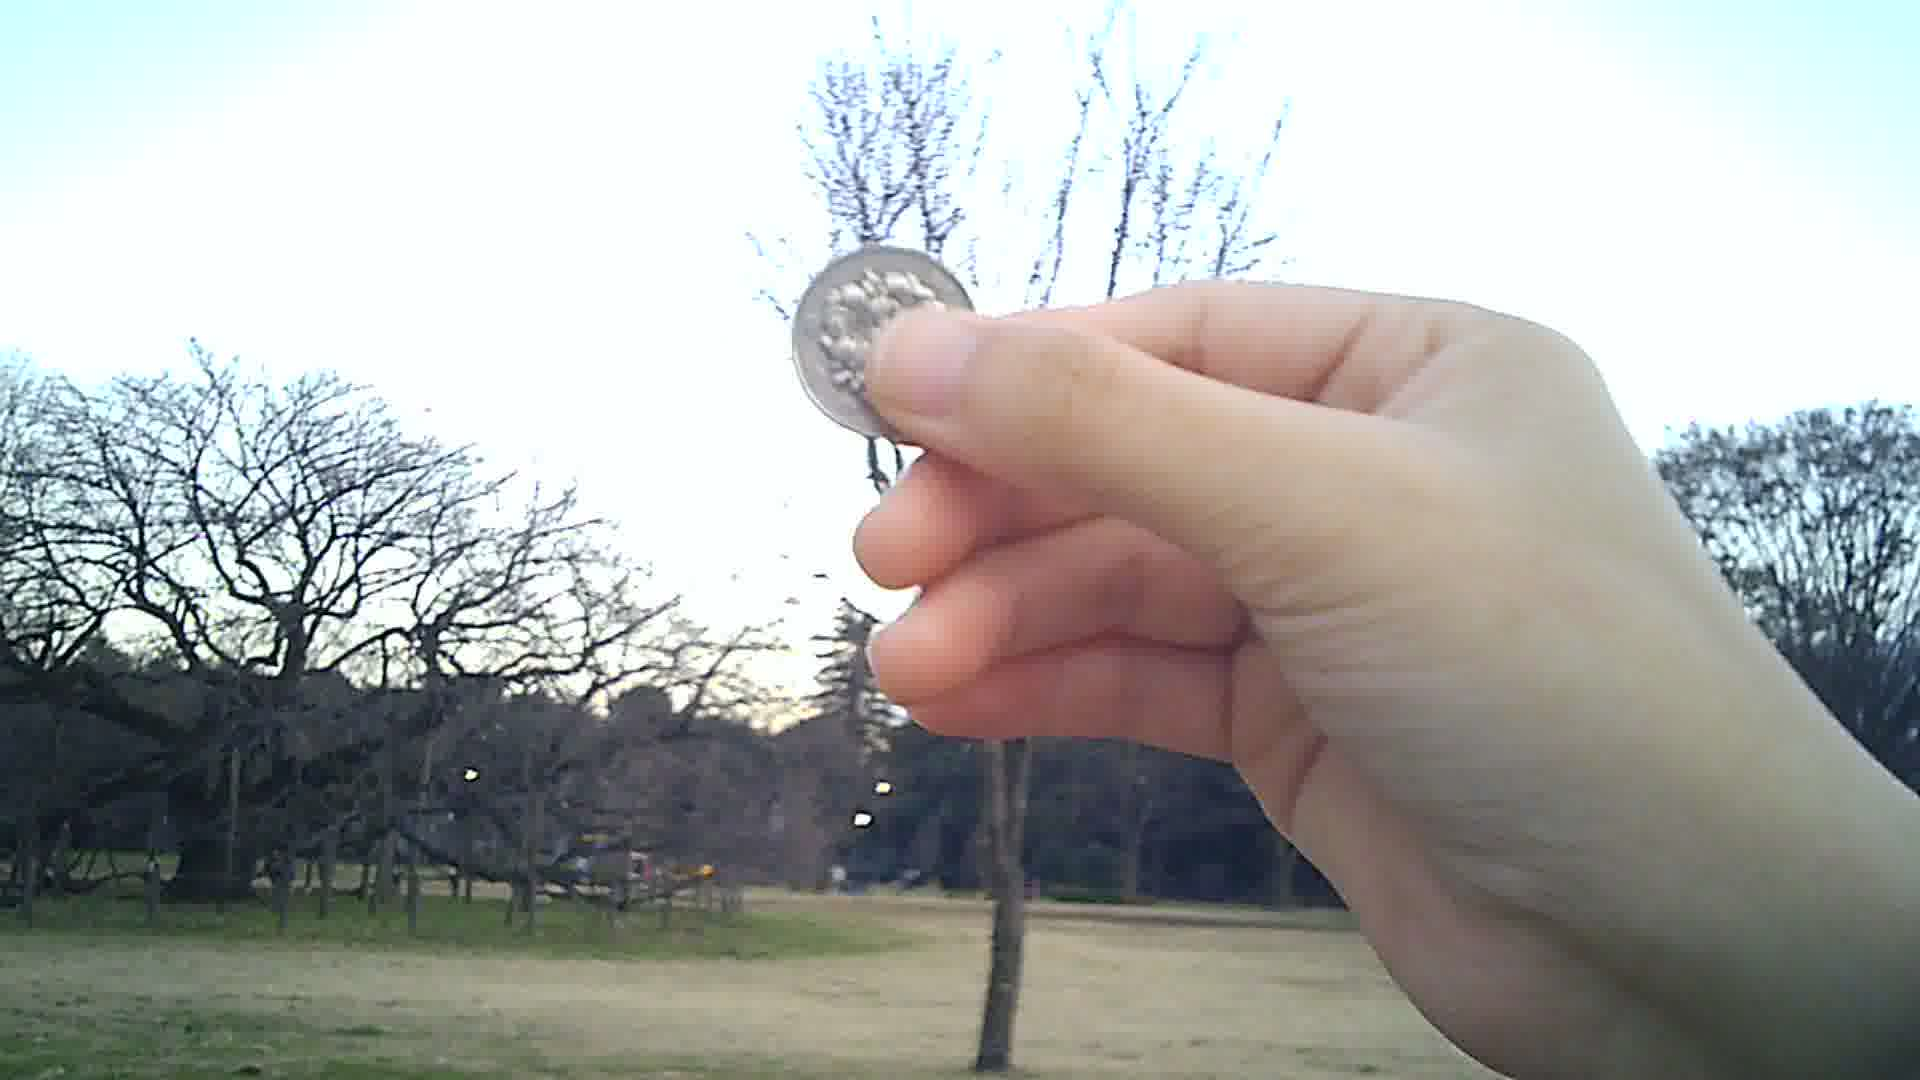100 Yen: (787, 241, 988, 460)
